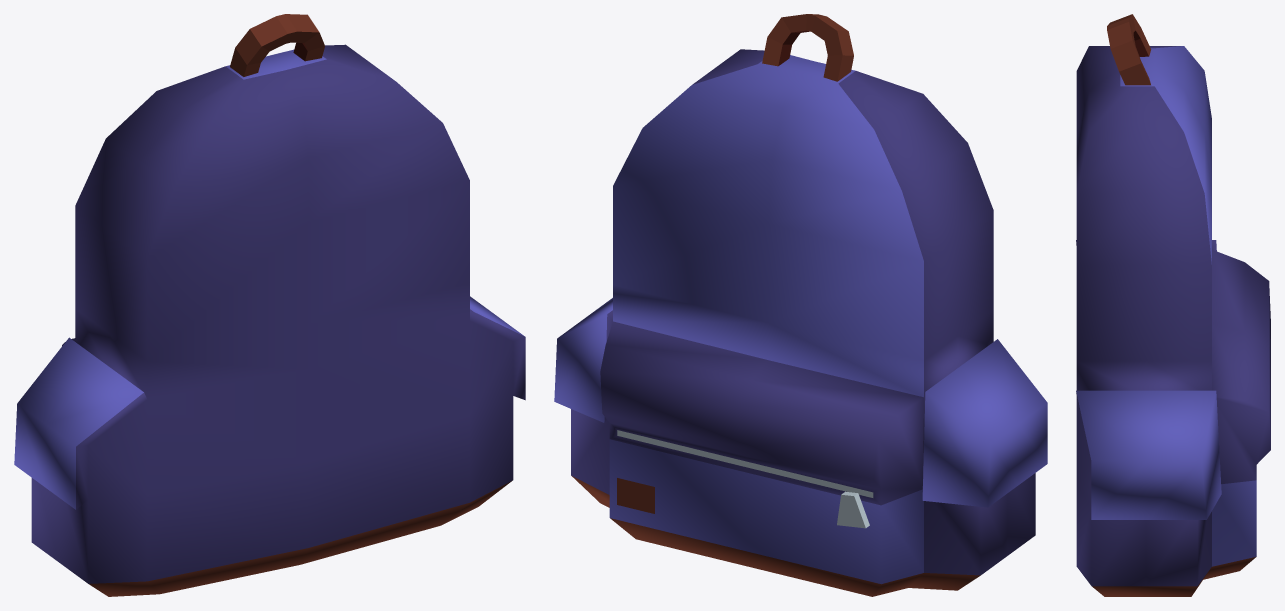
File: modernBackpack.fbx
3 renders of one model, left to right at view 1: azimuth 30°, elevation 25°; view 2: azimuth 150°, elevation 25°; view 3: azimuth 270°, elevation 25°, orthographic. The views are drawn at different scales.
Parts seen in each view (by area): view 1: modernBackpack; view 2: modernBackpack; view 3: modernBackpack.
Boxes of the visible parts, box(x1,y1,x2,y2) form: modernBackpack: box(14, 14, 525, 596); modernBackpack: box(554, 14, 1047, 596); modernBackpack: box(1076, 14, 1270, 596).
Bounding box in the file's own units: 95.88 × 109 × 38.5.
